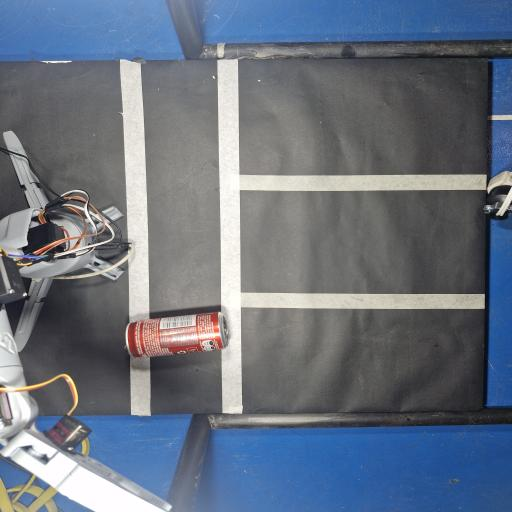lata: (125, 312, 228, 358)
